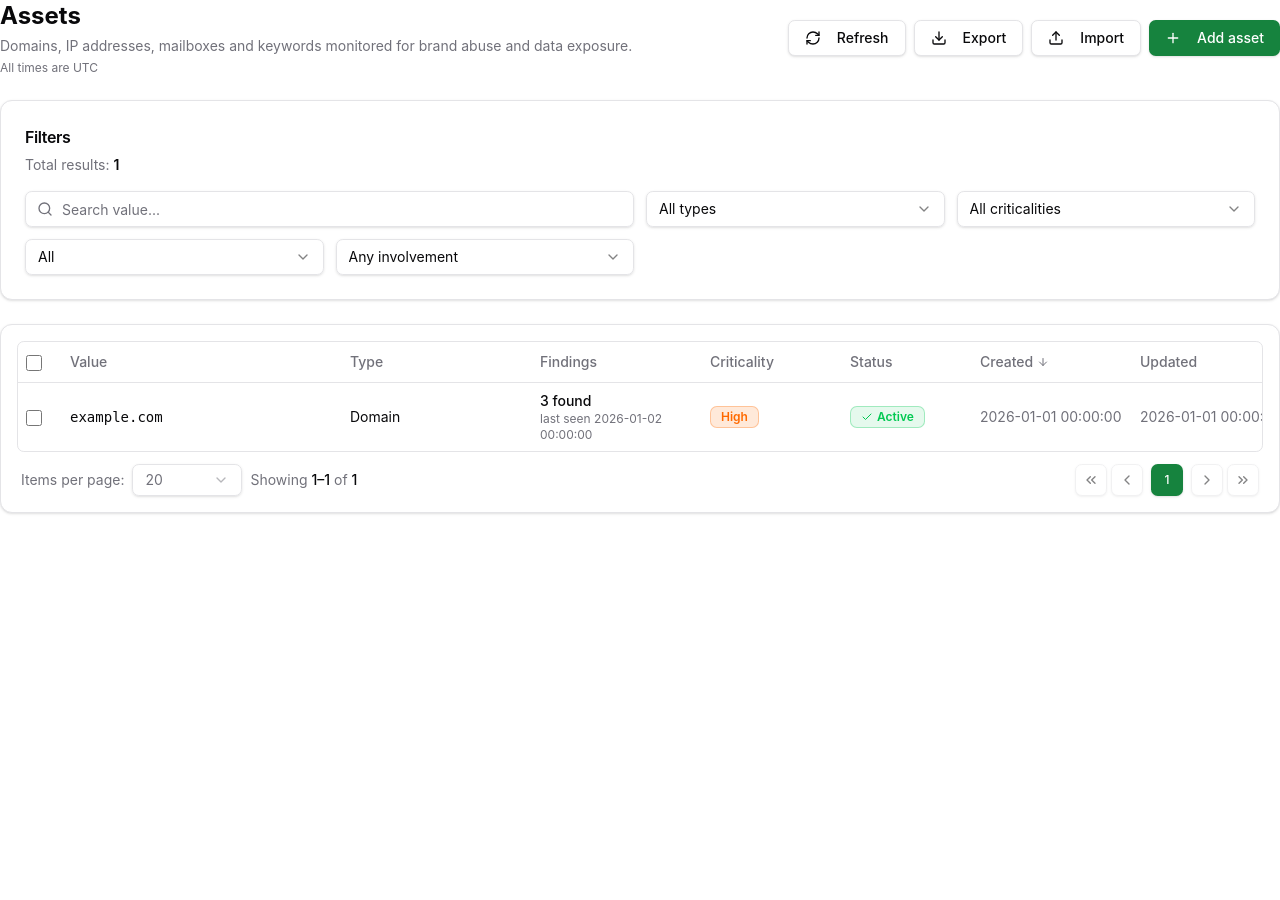
Test: AssetsPage › refuses a value the API would refuse before sending it (WI-19)
The width and height of the screenshot is (1280, 900).
Expected: the link "example.com" is shown, [70,408,163,424]
Step 1. Click the button "Add asset" → [1215, 38], box [1149,20,1279,56]
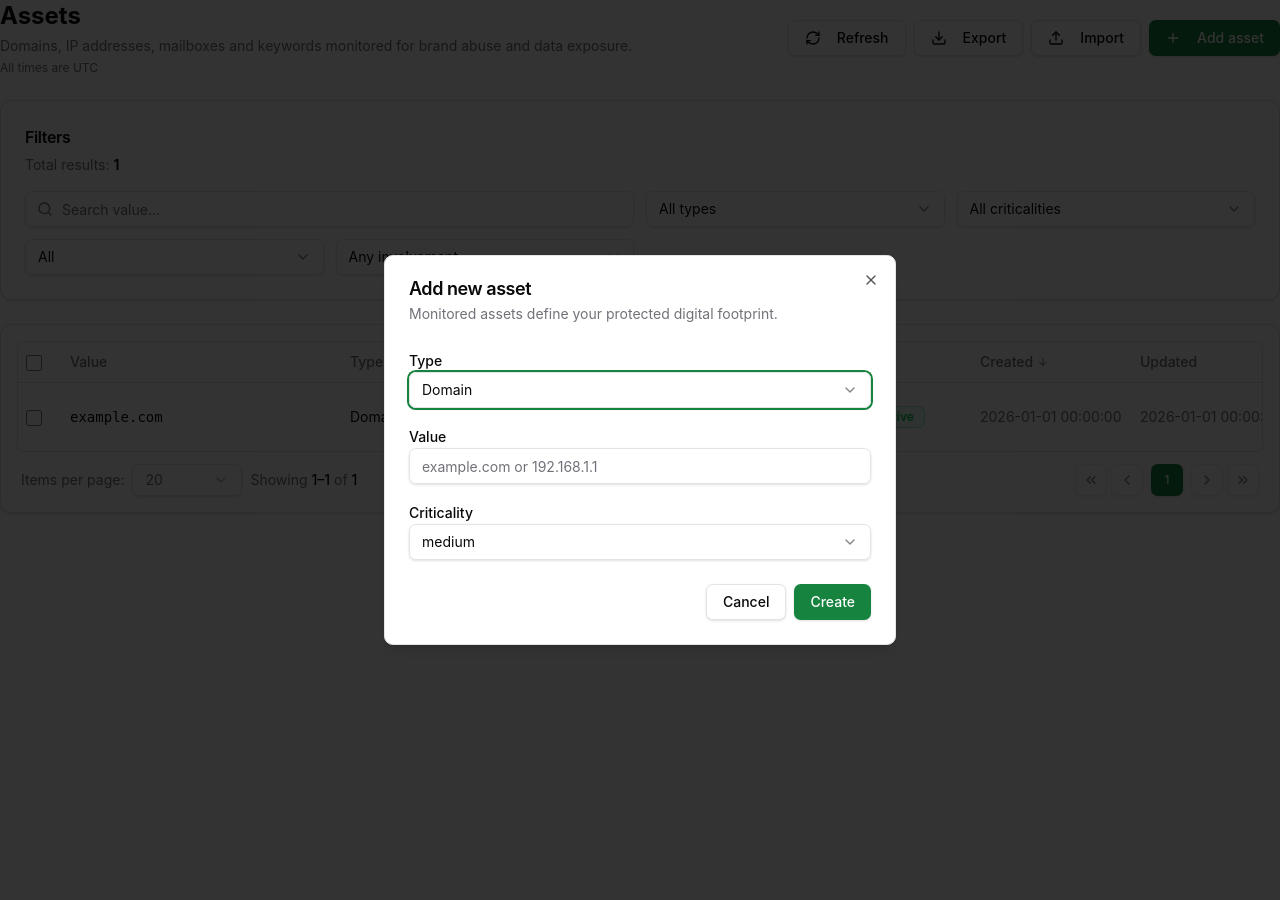
Step 2. Type "not a domain!!" into the field labelled "Value" → [640, 466], box [409,448,871,484]
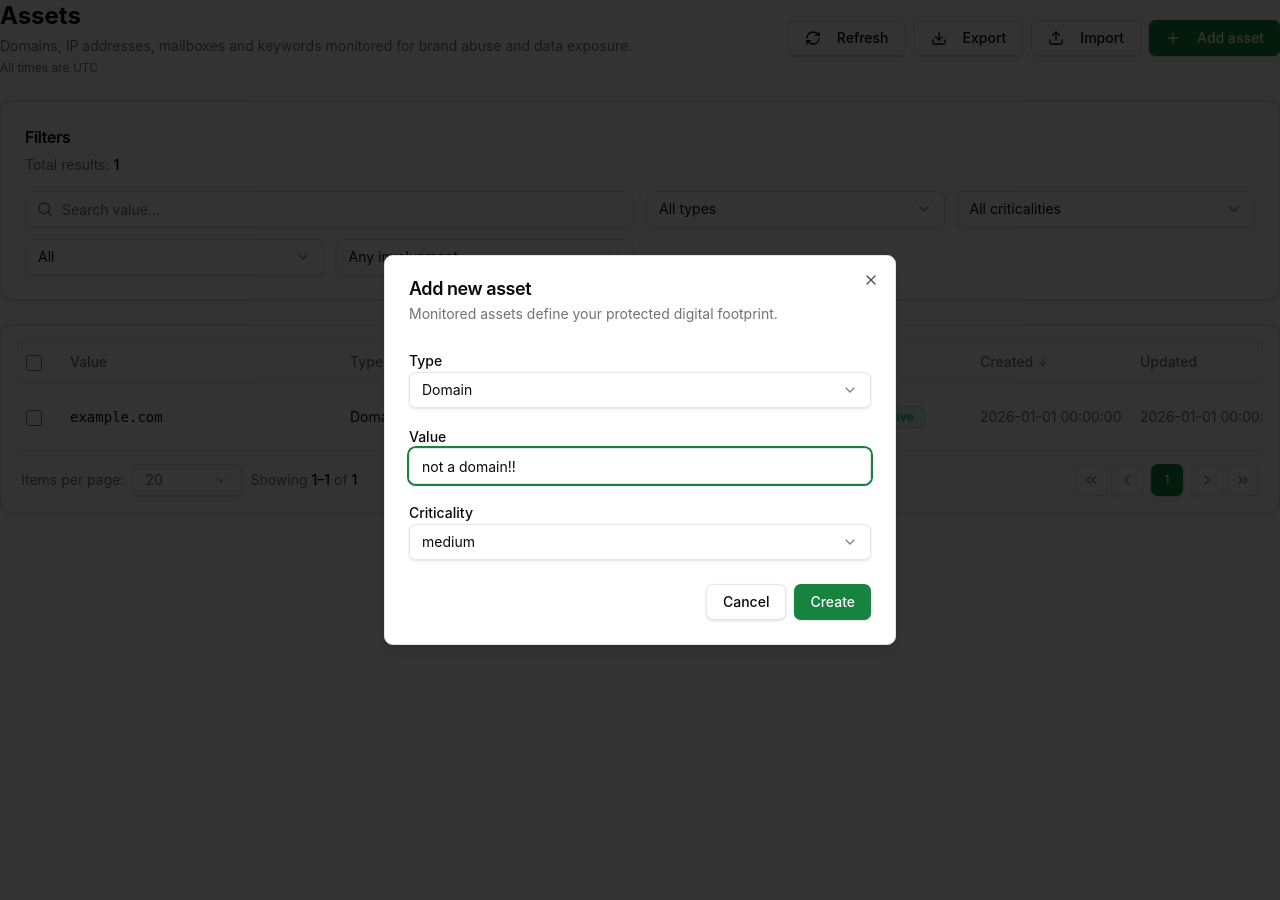
Step 3. Click the button "Create" → [833, 602], box [794,584,871,620]
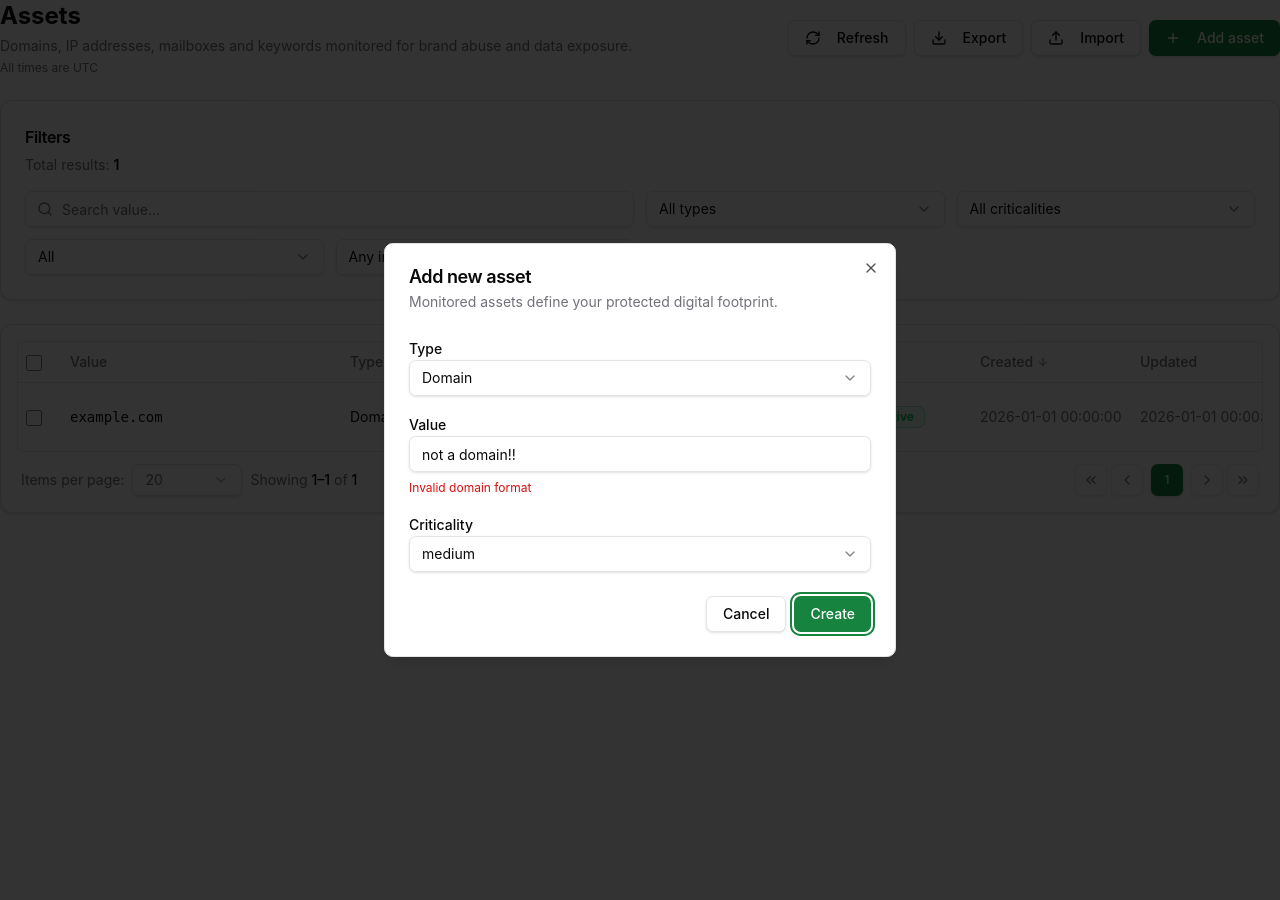
Result: the message reads "Invalid domain format" at [409,480,531,495]
Note: Typing again clears the message rather than leaving a stale complaint.
Step 4. Type ".example" into the field labelled "Value" → [640, 454], box [409,436,871,472]
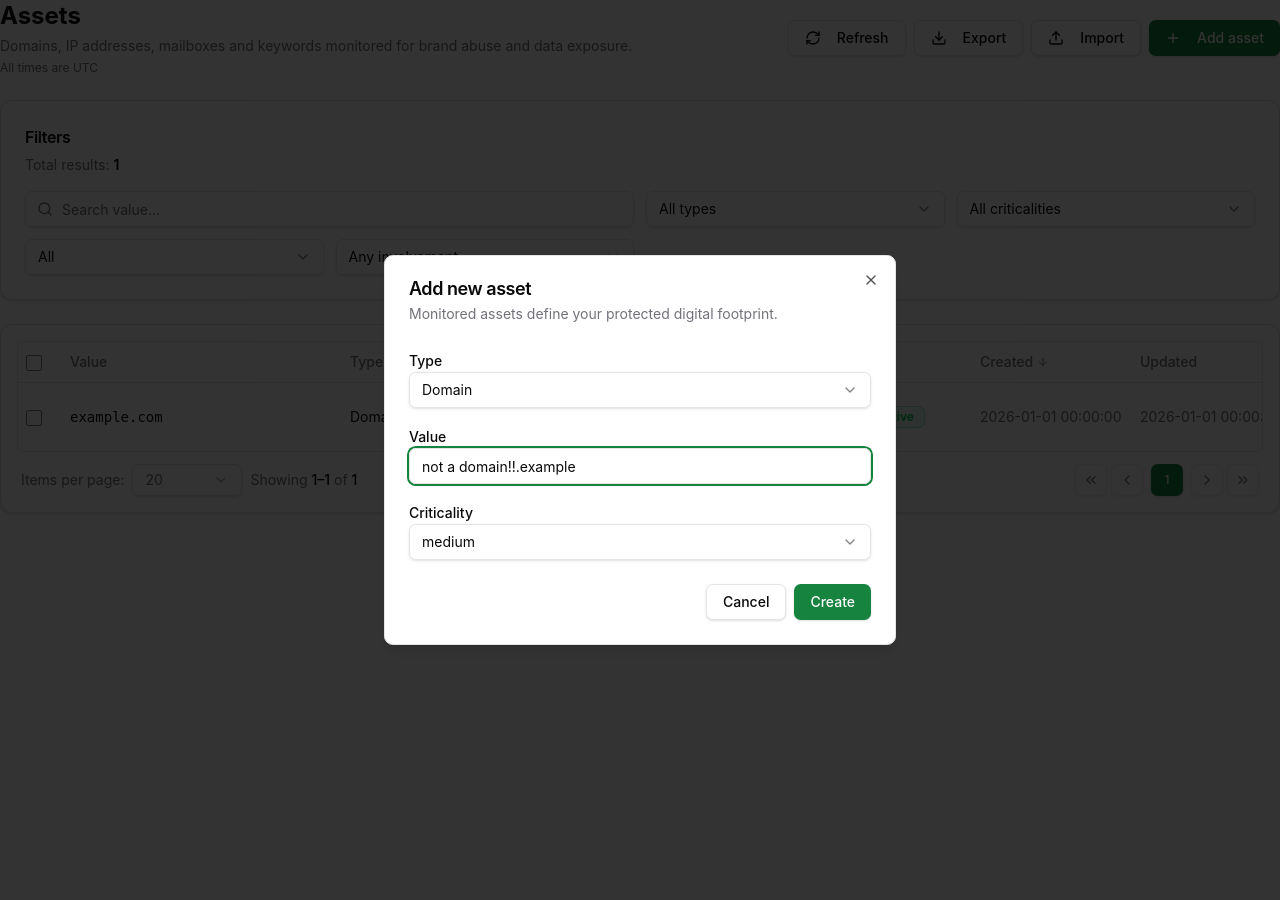
Result: the message "Invalid domain format" is gone
